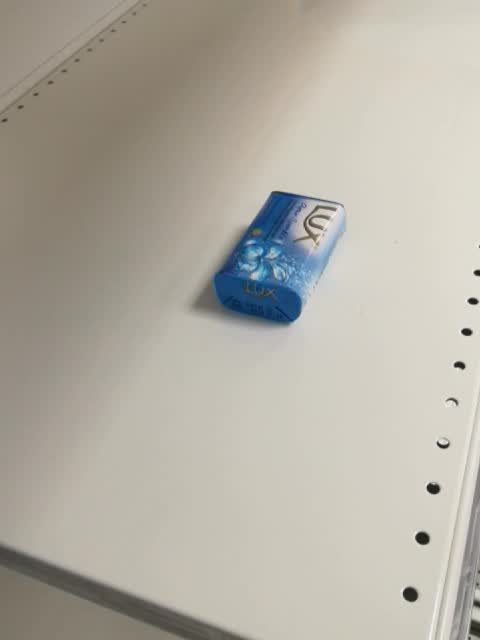soap: (213, 188, 348, 323)
